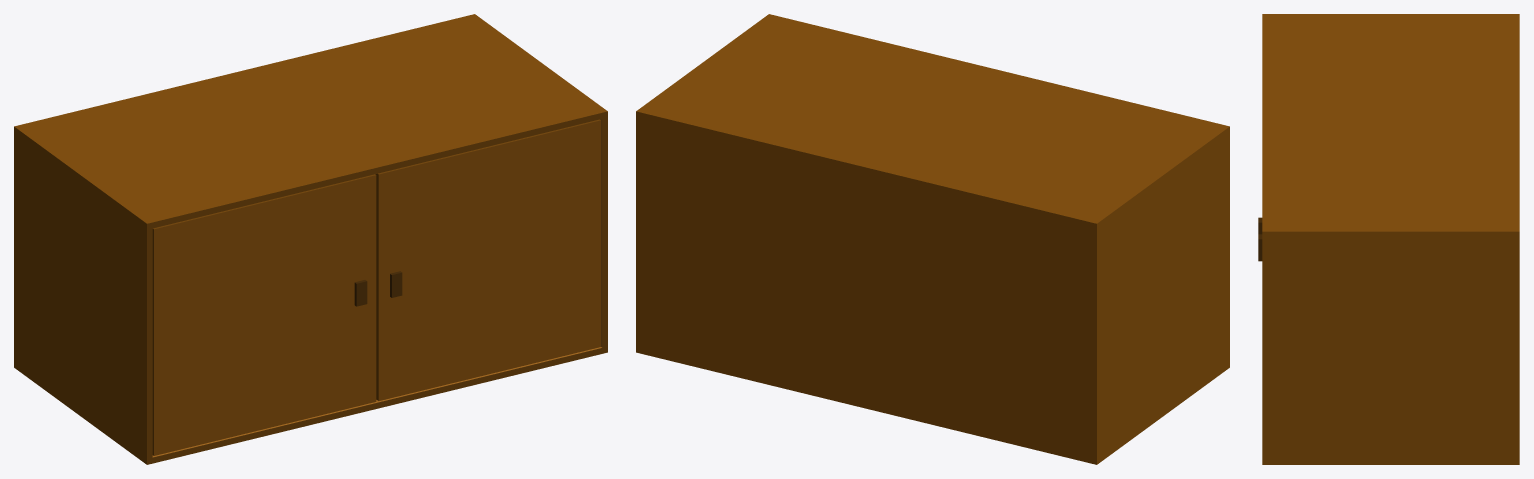
File: tumba.glb
3 views of the same model, side by side, from view 1: azimuth 30°, elevation 25°; view 2: azimuth 150°, elevation 25°; view 3: azimuth 270°, elevation 25° (orthographic). The views are drawn at different scales.
Parts seen in each view (by area): view 1: Куб, Куб.002, Куб.001; view 2: Куб; view 3: Куб.
Boxes of the visible parts, bbox=[...] form: Куб: bbox=[14, 14, 607, 464]; Куб.002: bbox=[152, 174, 376, 455]; Куб.001: bbox=[375, 119, 600, 400]; Куб: bbox=[636, 14, 1229, 464]; Куб: bbox=[1262, 14, 1519, 464].
Size of the model in its own units: 4 by 2 by 2.03.
3 materials, 3 textured.
